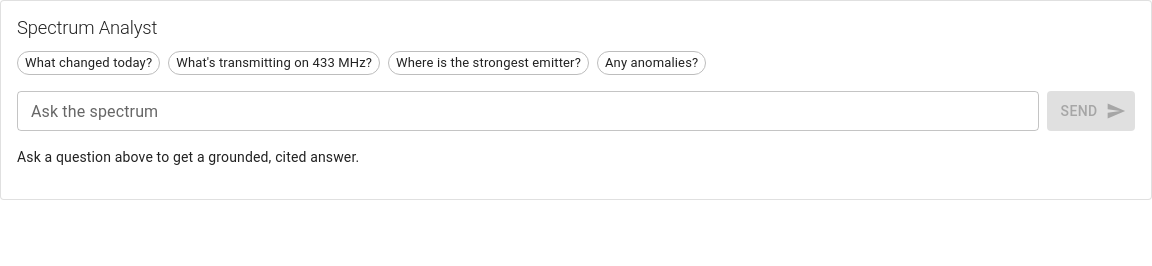
Scenario: Analyst › shows an inline error without losing the input on request failure
In the field with placeholder "Ask about signals, devices, emitters, or alerts…": [528, 111] box [17,91,1039,131], type "What changed today?"
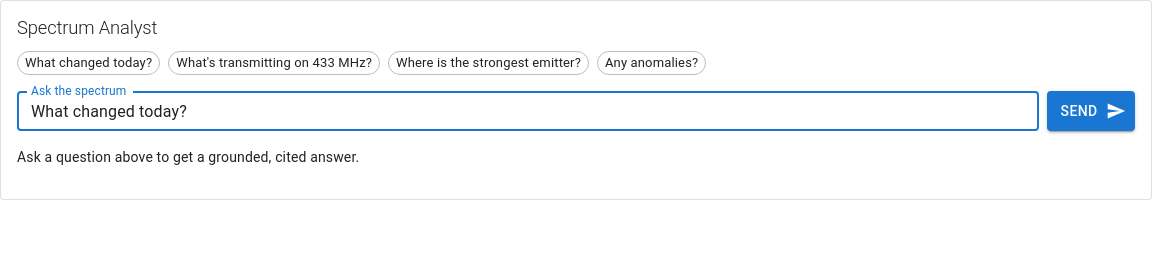
Click the button "Send": [1091, 111] box [1047,91,1135,131]
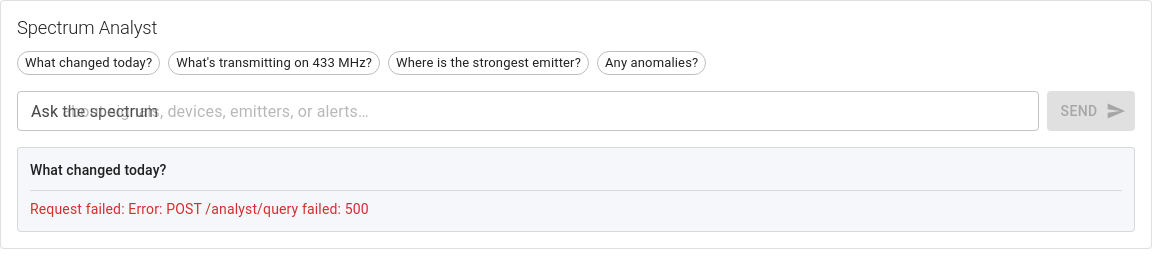
Check: the text "Request failed: Error: POST /analyst/query failed: 500" is shown, box [30,201,369,217]
